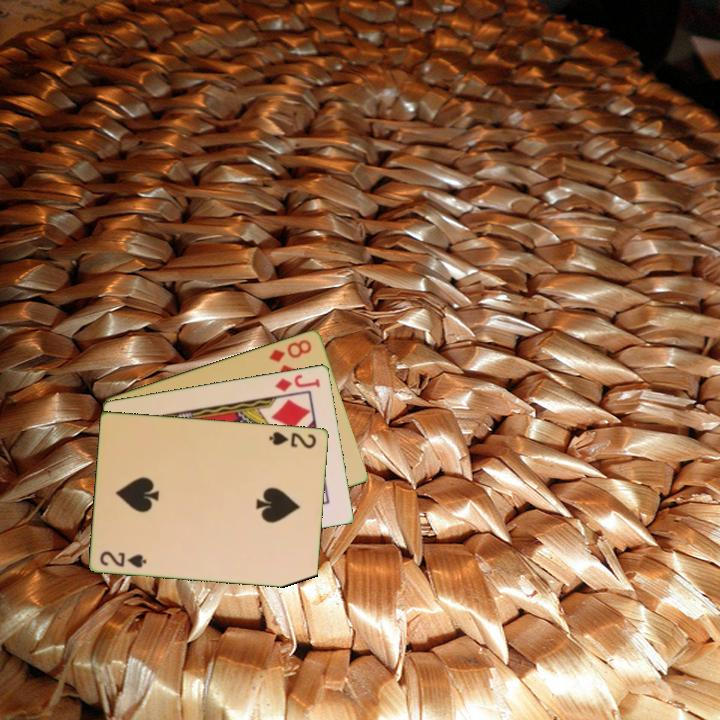2s: (266, 428, 319, 451), (97, 548, 150, 570)
8d: (265, 335, 315, 364)
Jd: (272, 371, 323, 394)
